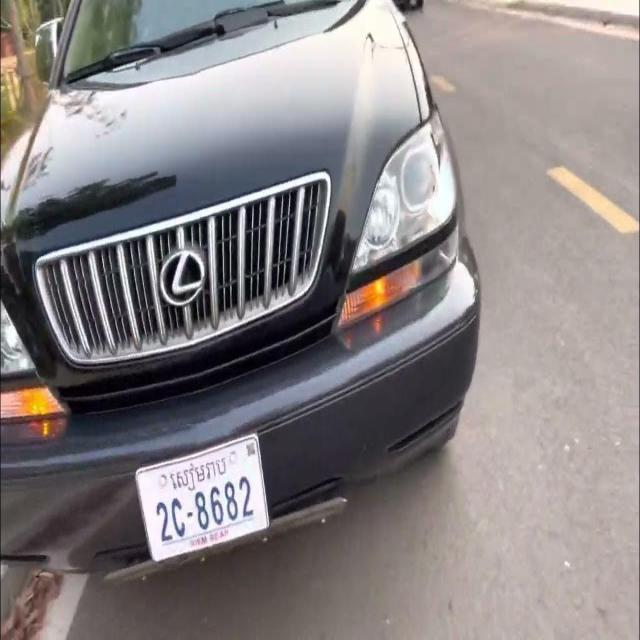Siem_Reap: (168, 453, 230, 492)
